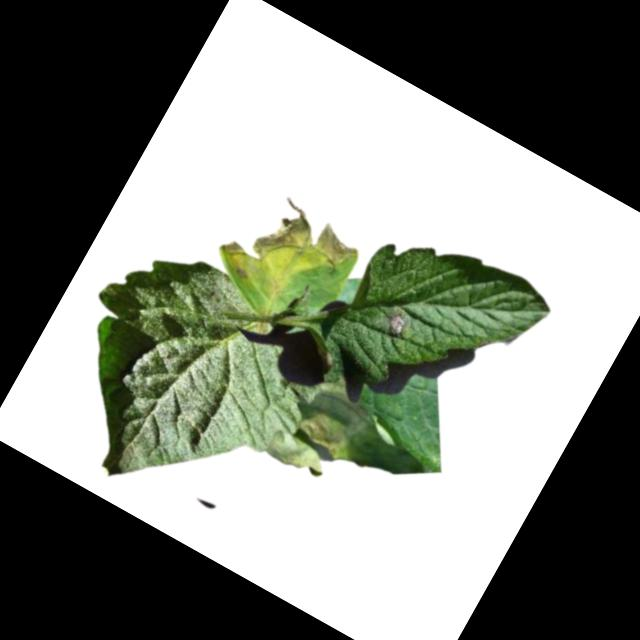Late_blight: (262, 369, 441, 528), (211, 181, 364, 323), (379, 308, 411, 341)
healthy: (22, 224, 345, 544)
